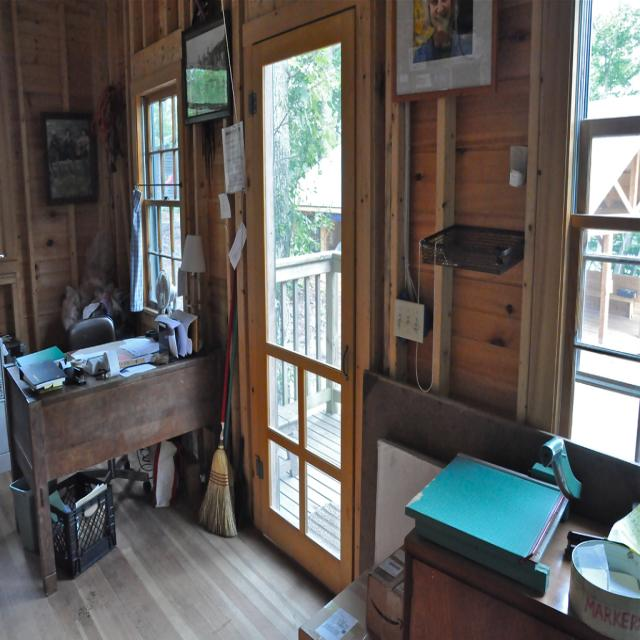chair: (67, 316, 115, 351)
desk: (5, 318, 241, 580)
laptop: (537, 434, 640, 539)
